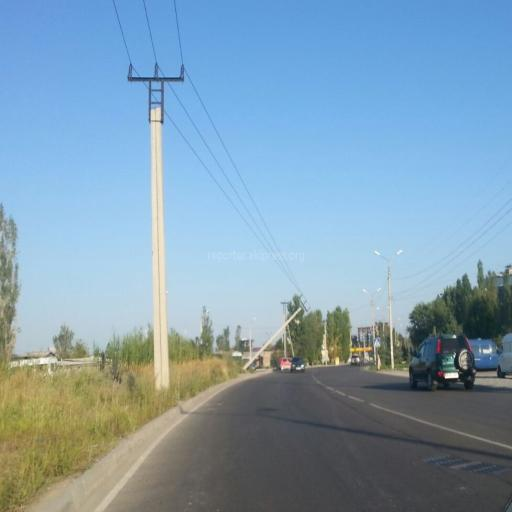Light-pole: (122, 47, 195, 397), (235, 274, 307, 418), (371, 240, 410, 379), (354, 275, 382, 371)
